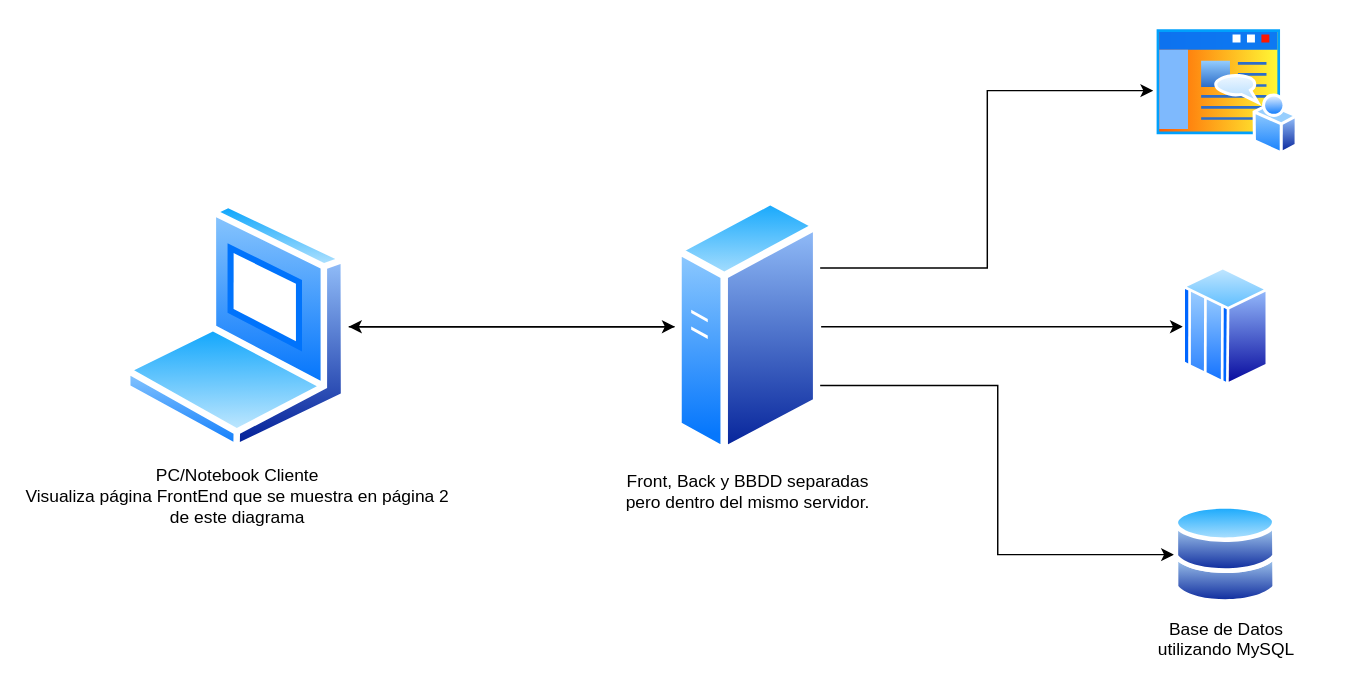
The diagram is 1363 pixels wide and 686 high, and some of its shapes have lost their labels. Each missing label, with the centre of its shape:
"BackEnd, con lenguaje Java y utilizando Spring Boot" goes at [1225,326].
"FrontEnd, se realizó utilizando: HTML, CSS y Javascript" goes at [1225,90].
